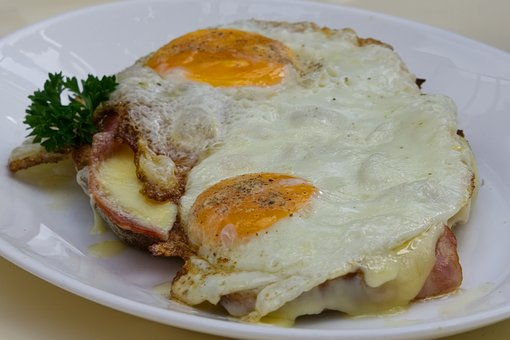fried egg: (171, 38, 430, 249)
